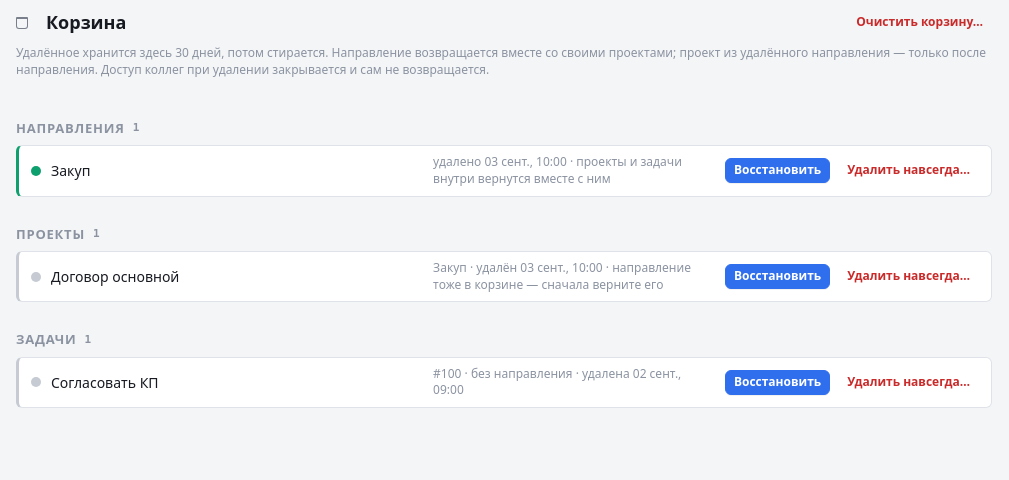
it: Страница «Корзина» (GET /trash) › 409 при восстановлении проекта — текст сервера показан на странице
Click the button "Восстановить" in the row of "Договор основной" at (778,276), box [725,264,830,289]
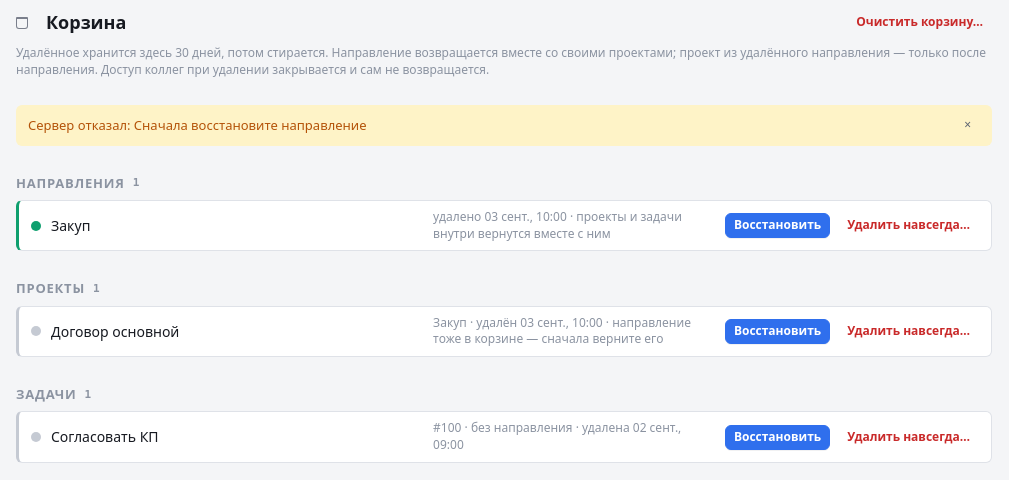
Expected: the message shows "Сначала восстановите направление", [28,116,366,134]
